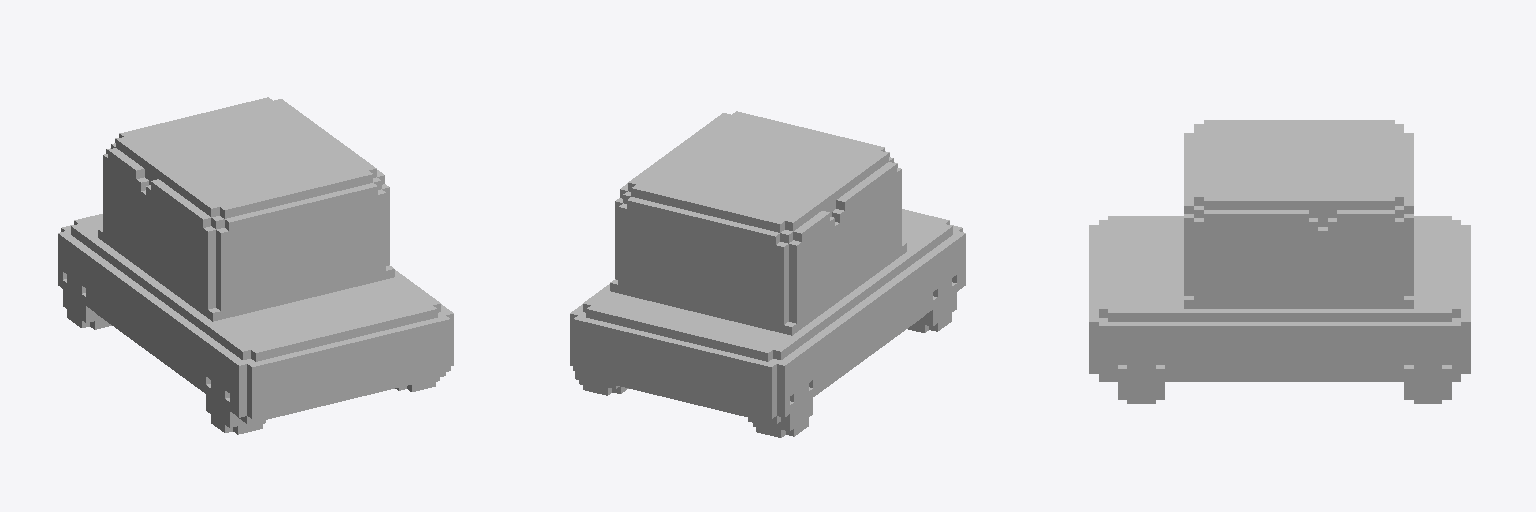
Rendered from OldCar.obj.
The picture shows the model from 3 angles: view 1: azimuth 30°, elevation 25°; view 2: azimuth 150°, elevation 25°; view 3: azimuth 270°, elevation 25°; orthographic projection.
Parts seen in each view (by area): view 1: object 1; view 2: object 1; view 3: object 1.
Part boxes in pixels (x1,y1,x2,y2): object 1: (58,97,453,434); object 1: (570,111,965,437); object 1: (1089,120,1470,403).
Bounding box in the file's own units: 2.6 × 2.2 × 4.